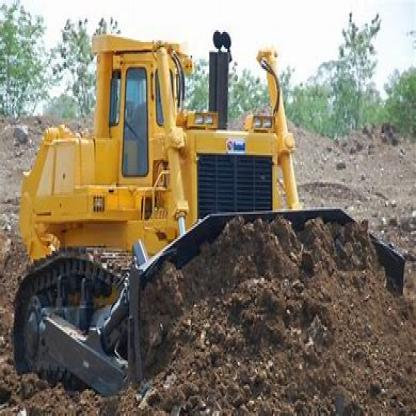bull_dozer/loader/grader: (6, 24, 408, 398)
